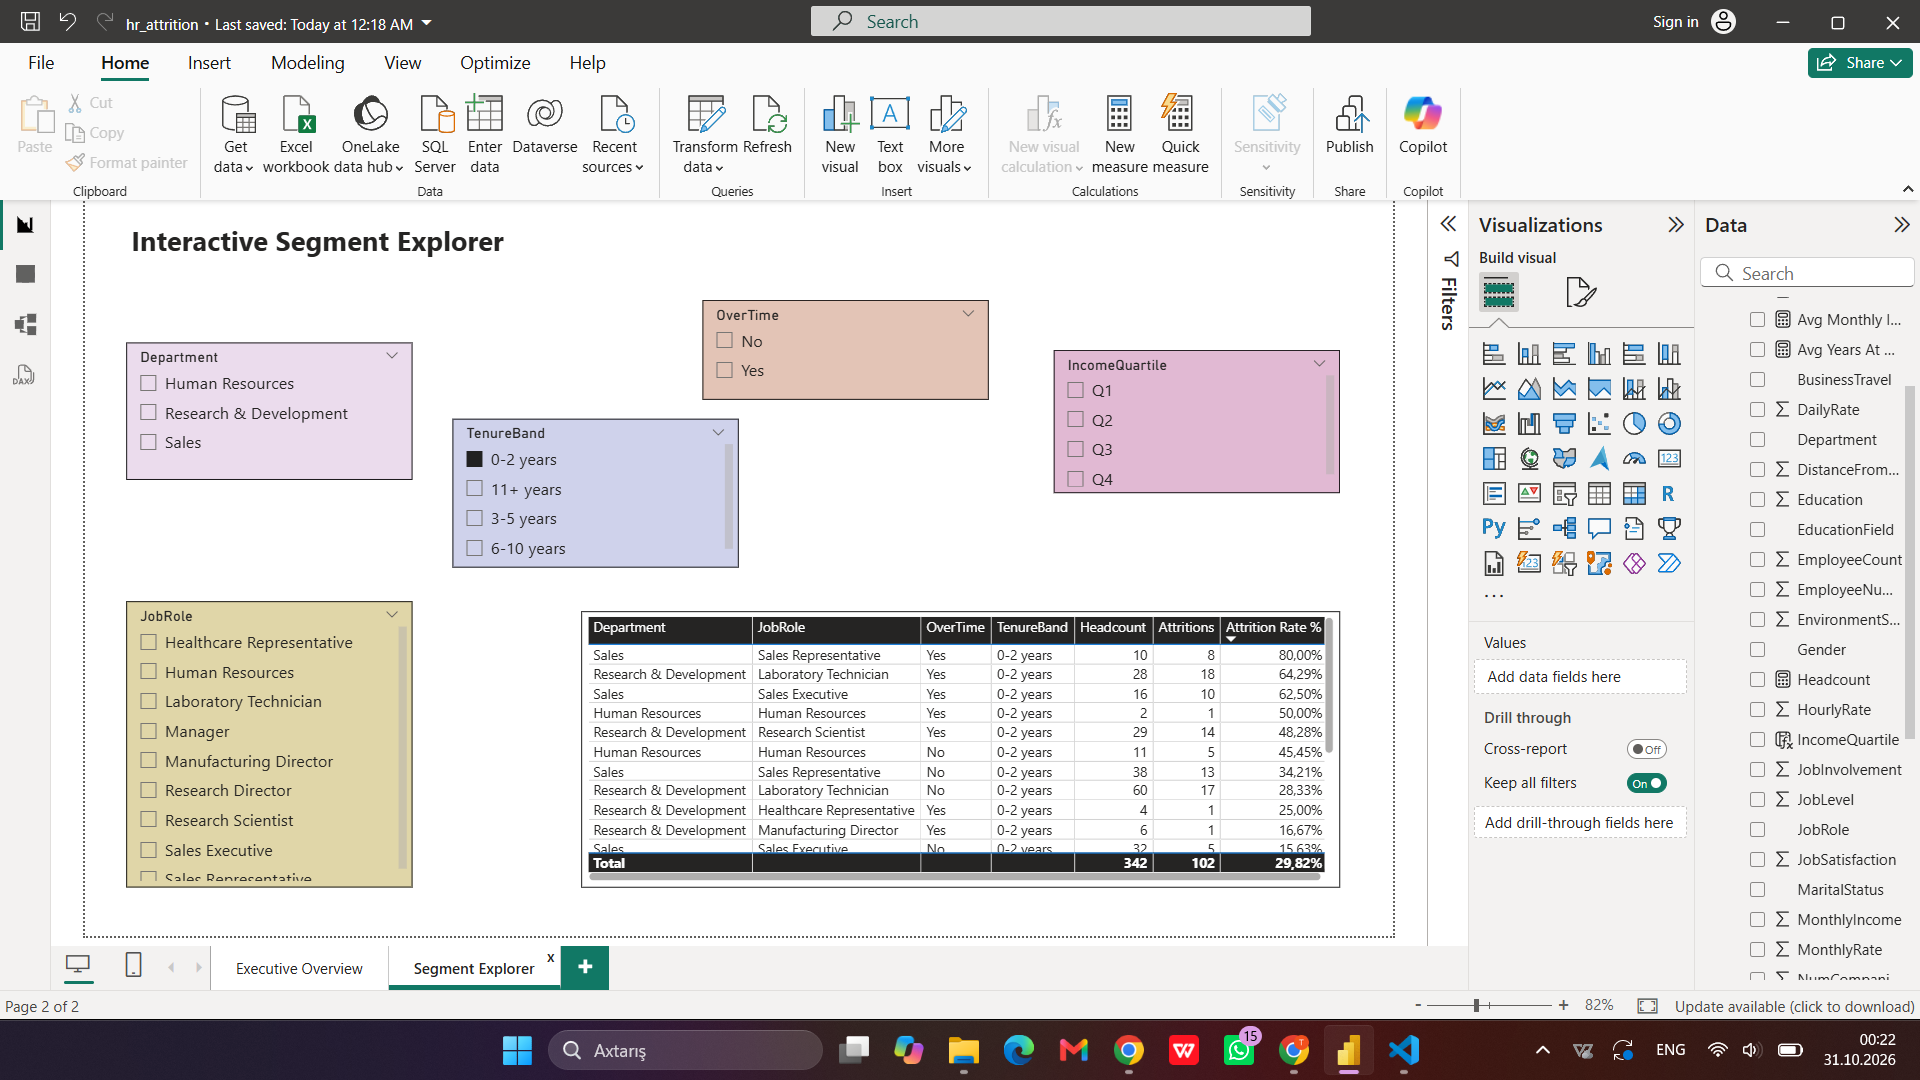

The dashboard page shown, as its layout file describes it:
{"tool":"powerbi","page":{"name":"Segment Explorer","canvas":[1280,720],"ordinal":1},"visuals":[{"type":"slicer","fields":{"Values":["employees.Department"]},"box":[39.8,140,279.9,134.5],"z":0},{"type":"slicer","fields":{"Values":["employees.JobRole"]},"box":[39.8,392.5,279.9,279.9],"z":1000},{"type":"slicer","fields":{"Values":["employees.OverTime"]},"box":[603.8,97.4,279.9,97.4],"z":2000},{"type":"slicer","fields":{"Values":["employees.TenureBand"]},"box":[359.5,214.1,279.9,145.5],"z":3000},{"type":"slicer","fields":{"Values":["employees.IncomeQuartile"]},"box":[948.2,146.8,279.9,140],"z":4000},{"type":"tableEx","fields":{"Values":["employees.Department","employees.JobRole","employees.OverTime","employees.TenureBand","employees.Headcount","employees.Attritions","employees.Attrition Rate %"]},"box":[485.8,402.1,742.4,270.3],"z":5000},{"type":"textbox","box":[39.8,16.5,470.7,60.4],"z":6000}]}

Visuals, with their boxes on the page's 1280x720 design canvas (x1, y1, x2, y2). These are canvas units, not pixel positions in the 1920x1080 screenshot, which may show the page scaled, cropped or inside an application window:
slicer - employees.Department: l=40, t=140, r=320, b=274
slicer - employees.JobRole: l=40, t=392, r=320, b=672
slicer - employees.OverTime: l=604, t=97, r=884, b=195
slicer - employees.TenureBand: l=360, t=214, r=639, b=360
slicer - employees.IncomeQuartile: l=948, t=147, r=1228, b=287
tableEx - employees.Department x employees.JobRole: l=486, t=402, r=1228, b=672
textbox: l=40, t=16, r=510, b=77
